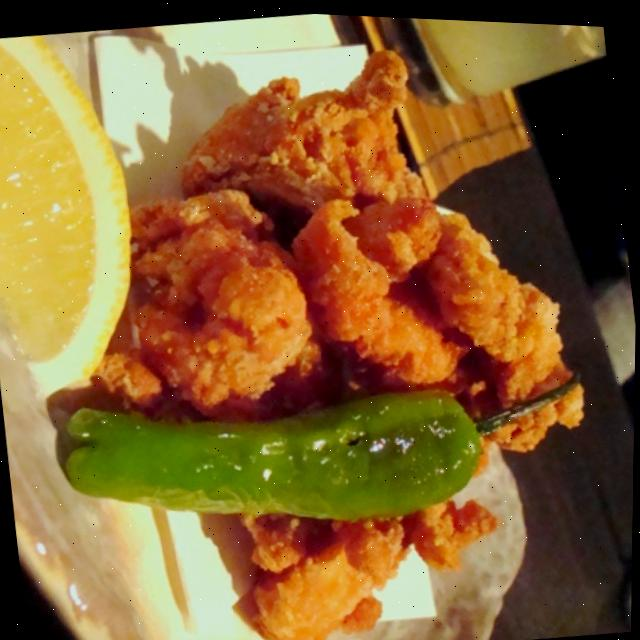鸡肉料理 含炸鸡: (76, 15, 640, 640)
